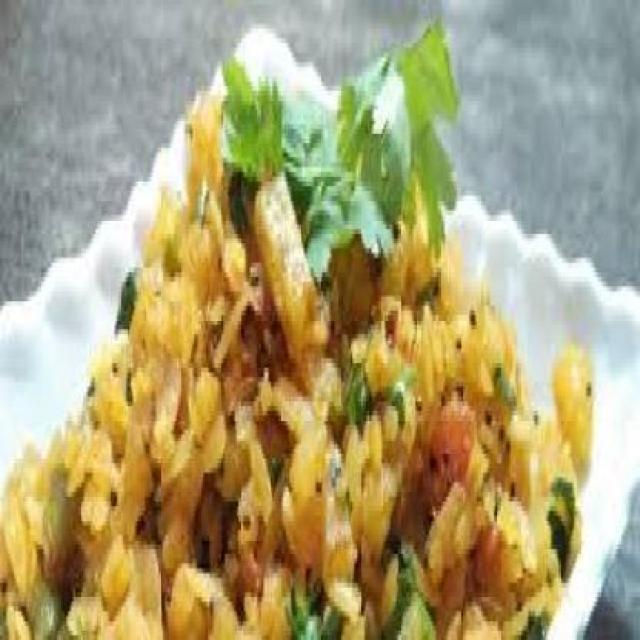poha: (0, 87, 592, 640)
